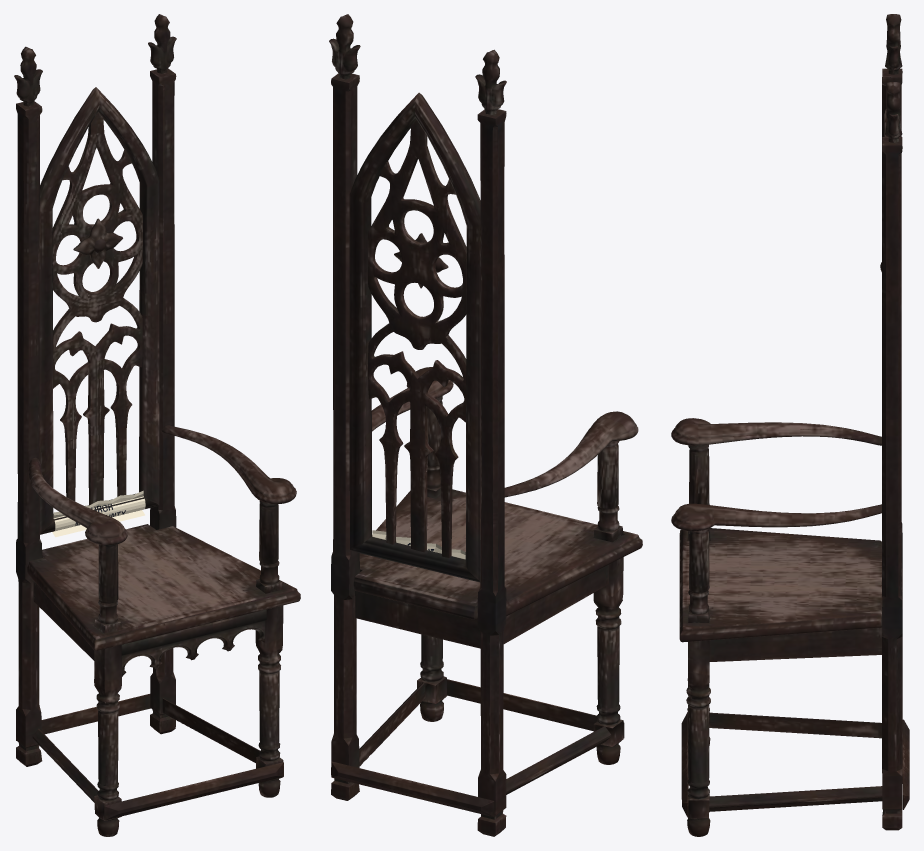
File: nyb_angrymen_chair.glb
3 views of the same model, side by side, from view 1: azimuth 30°, elevation 25°; view 2: azimuth 150°, elevation 25°; view 3: azimuth 270°, elevation 25° (orthographic). The views are drawn at different scales.
Visible parts, largest first — view 1: WoodenChair_01, stk_lbl_728557383e.png; view 2: WoodenChair_01; view 3: WoodenChair_01.
Part boxes in pixels (box(x1,y1,x2,y2)): WoodenChair_01: box(14, 14, 300, 836); stk_lbl_728557383e.png: box(52, 490, 145, 537); WoodenChair_01: box(329, 14, 642, 836); WoodenChair_01: box(671, 14, 909, 836).
Size of the model in its own units: 0.6882 by 2.27 by 0.6585.
2 materials, 2 textured.
